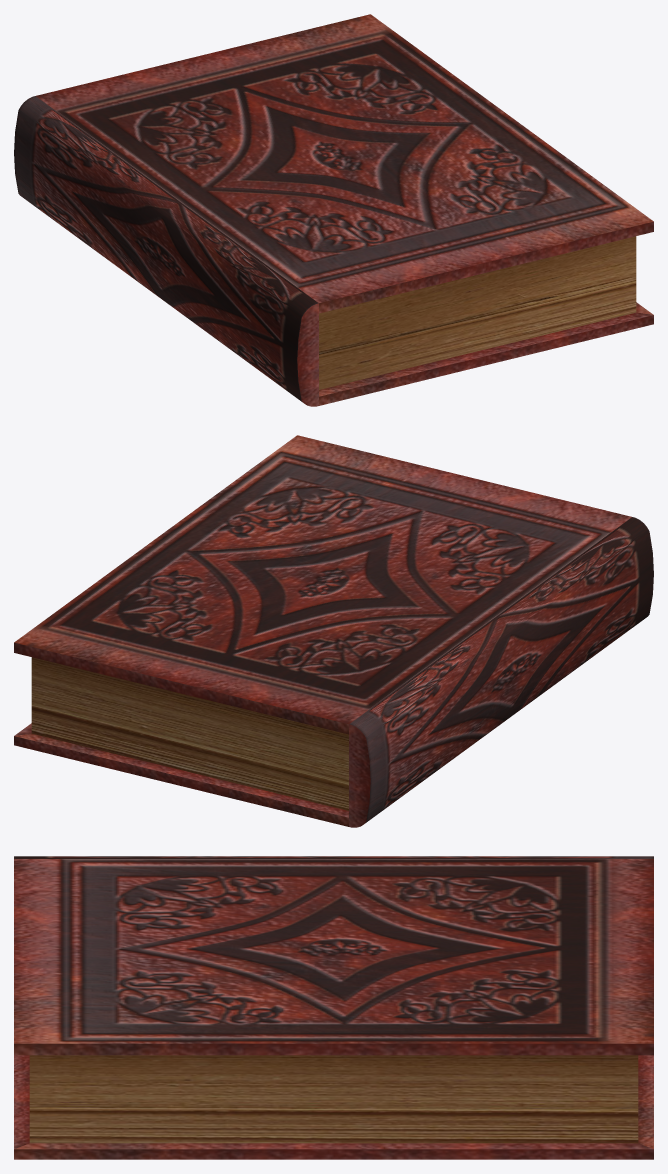
Rendered from book-08.fbx.
The picture shows the model from 3 angles, top to bottom: view 1: azimuth 30°, elevation 25°; view 2: azimuth 150°, elevation 25°; view 3: azimuth 270°, elevation 25°; orthographic projection. The views are drawn at different scales.
Parts seen in each view (by area): view 1: Cube.007; view 2: Cube.007; view 3: Cube.007.
Boxes of the visible parts, left/top/right/bottom form: Cube.007: left=14, top=14, right=653, bottom=406; Cube.007: left=14, top=435, right=653, bottom=827; Cube.007: left=14, top=856, right=653, bottom=1159.
Size of the model in its own units: 0.3053 by 0.084 by 0.42.
